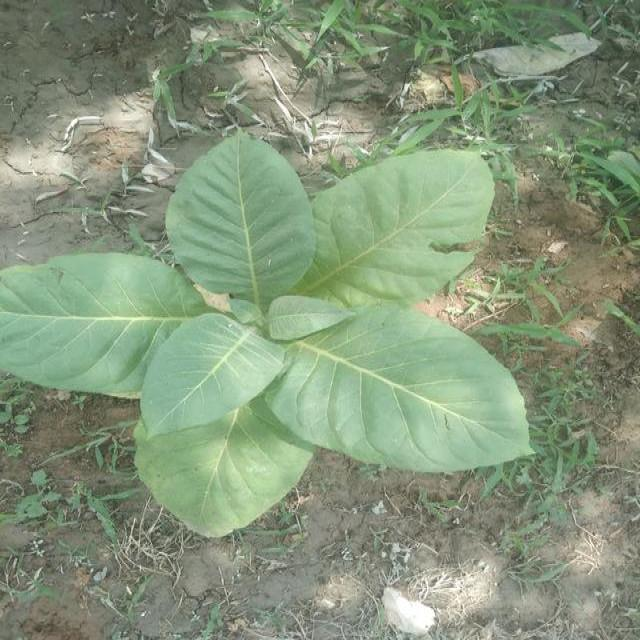crop: (0, 130, 535, 536)
